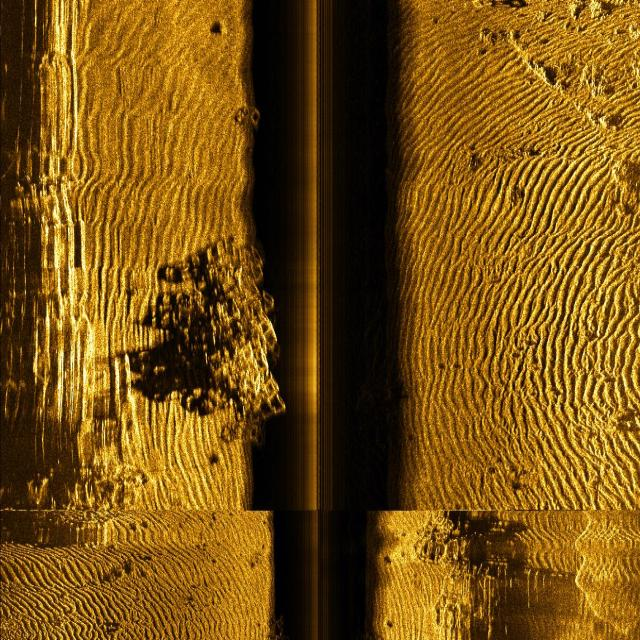artificial reef: (176, 231, 294, 448), (235, 88, 269, 142), (264, 607, 307, 640)
